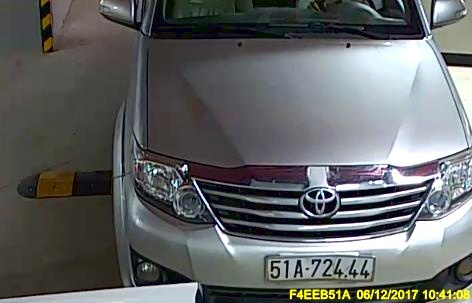plate: (261, 249, 381, 288)
